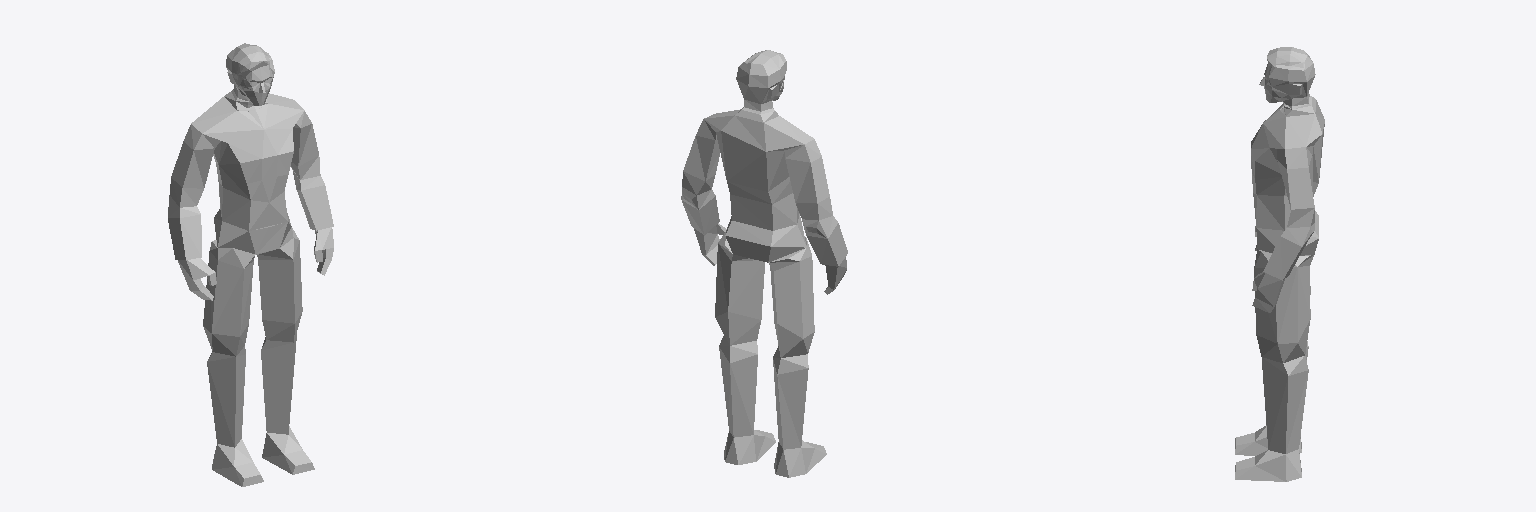
The model's file is Manuel116.obj.
3 renders of one model, left to right at view 1: azimuth 30°, elevation 25°; view 2: azimuth 150°, elevation 25°; view 3: azimuth 270°, elevation 25°, orthographic.
Visible parts, largest first — view 1: leon; view 2: leon; view 3: leon.
Boxes of the visible parts, x1=… form: leon: x1=168, y1=43, x2=333, y2=486; leon: x1=681, y1=50, x2=847, y2=477; leon: x1=1235, y1=47, x2=1324, y2=481.
Bounding box in the file's own units: 4.68 × 12.19 × 2.42.